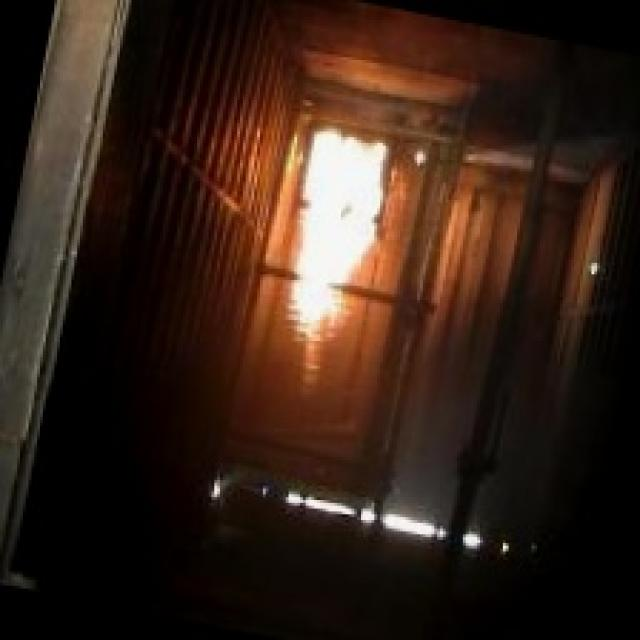fire: (250, 108, 419, 383)
